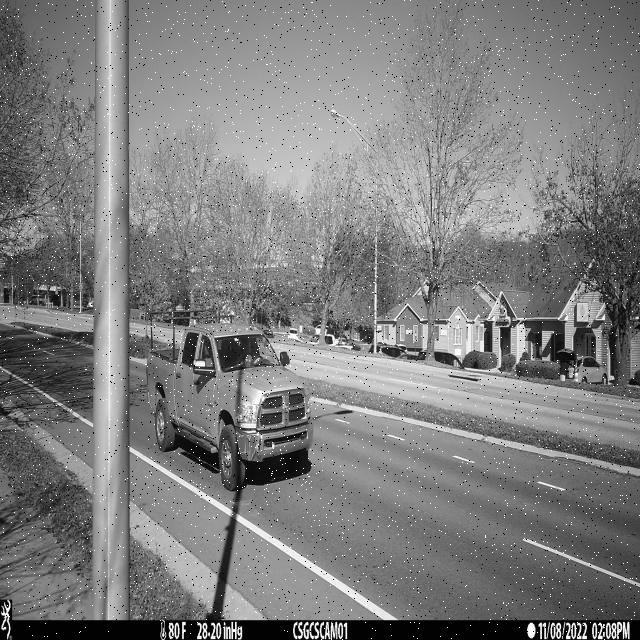SUV: (148, 324, 314, 492)
